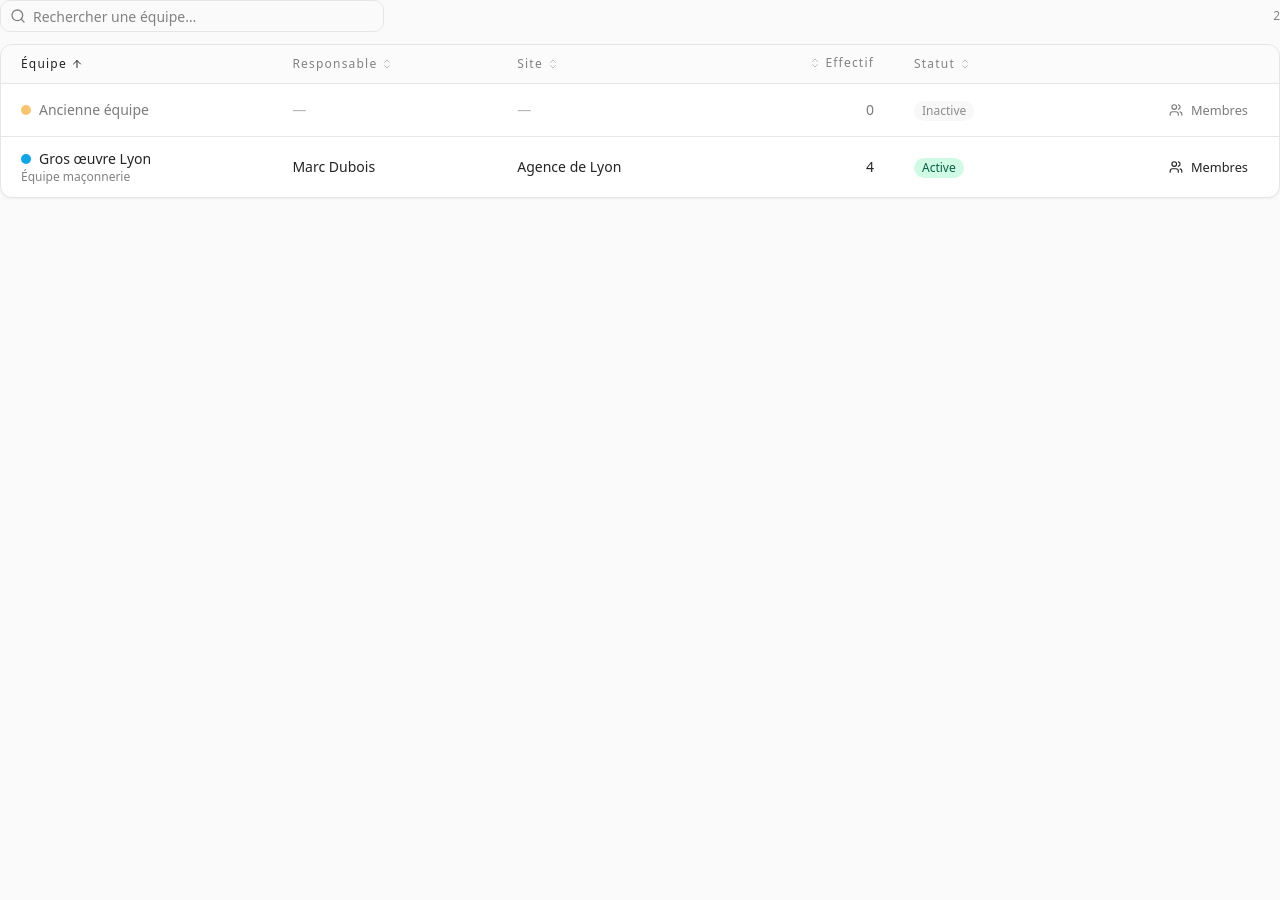
EquipesSection › en lecture seule : membres consultables, pas de gestion
Click the button with aria-label "Membres de Gros œuvre Lyon": (1208, 167) [1158, 153, 1259, 181]
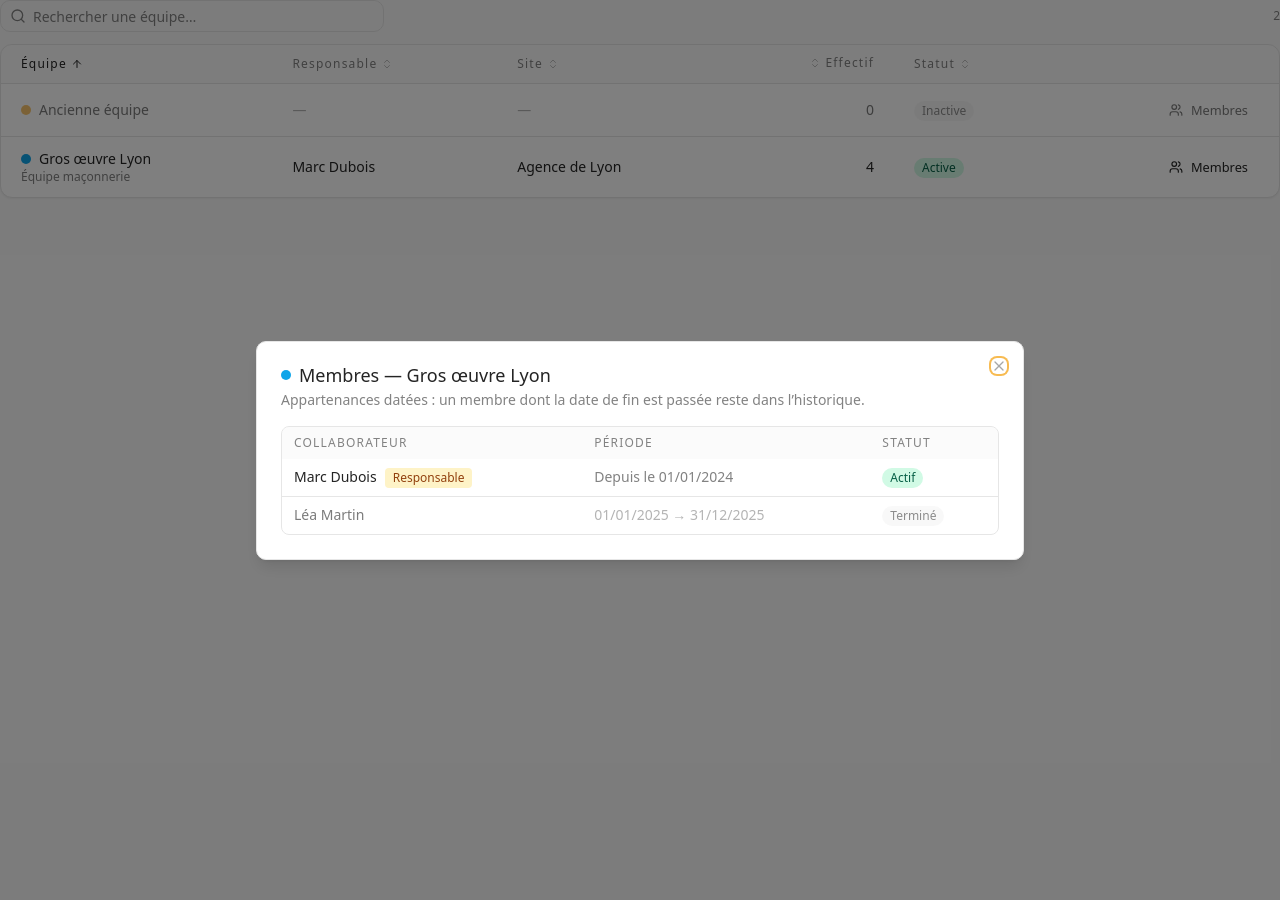
Expected: the text "Léa Martin" is shown, [294, 505, 364, 524]
